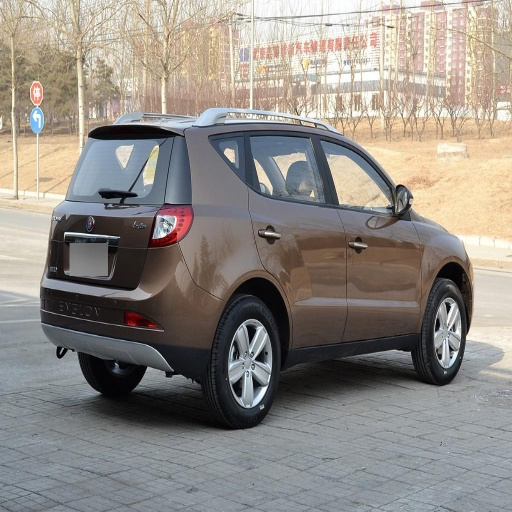back_bumper: (39, 242, 225, 368)
back_right_door: (242, 128, 346, 341)
